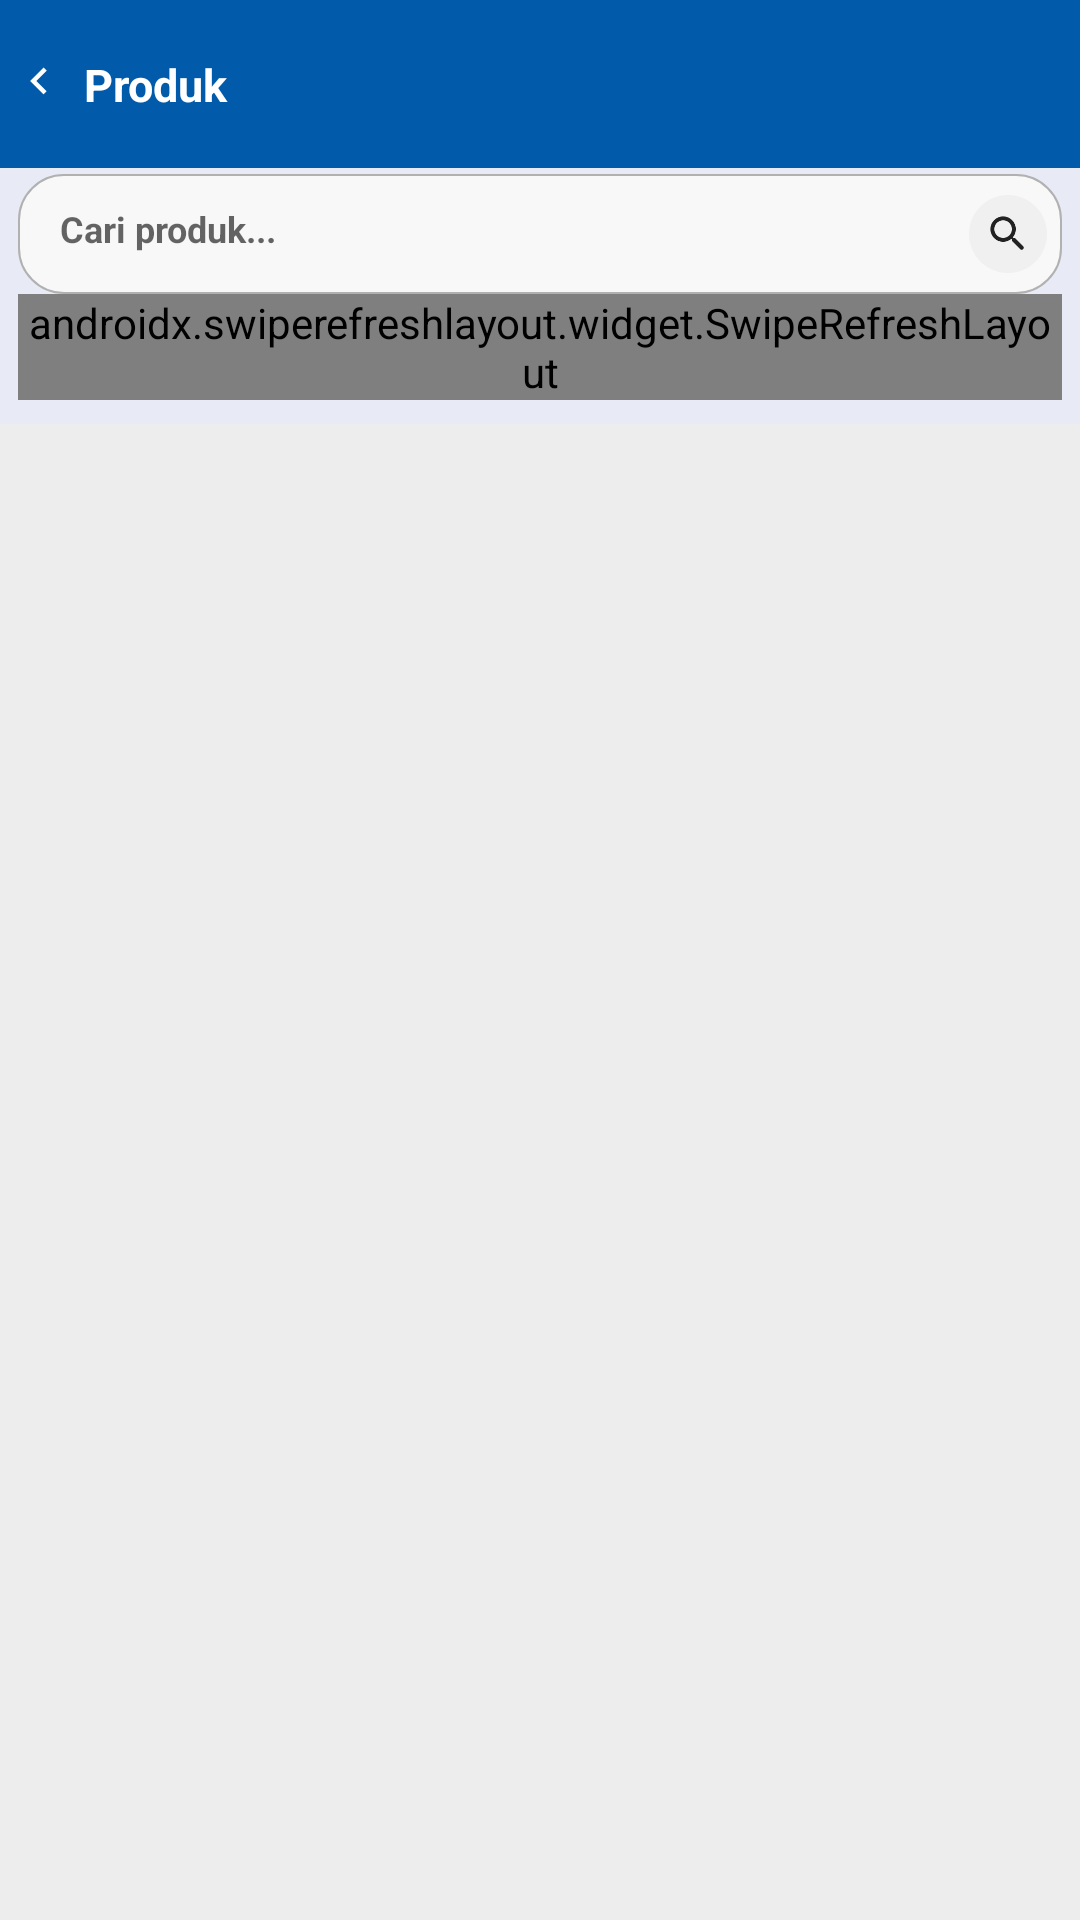

Where icons sit on this 1080px x 1920px app screen, as BBox(x1, y1, x2, y2):
left back: BBox(30, 67, 47, 95)
search: BBox(990, 216, 1024, 250)
